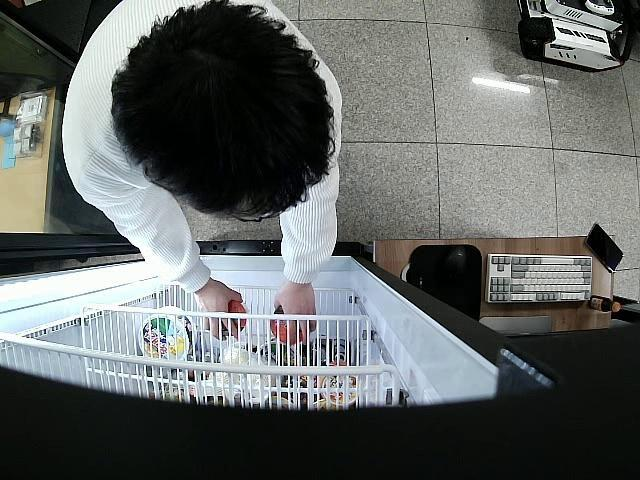02_shinRamen_S: (272, 306, 312, 345), (214, 300, 248, 338)
